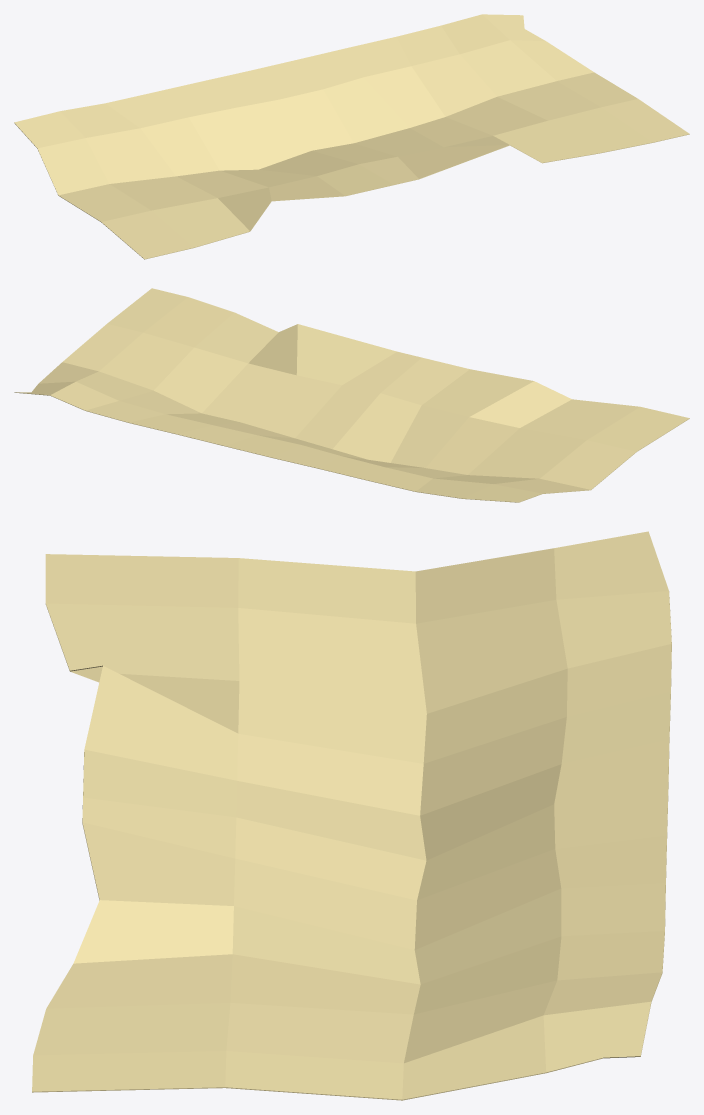
The model's file is Big Shelter rag.fbx.
3 renders of one model, top to bottom at view 1: azimuth 30°, elevation 25°; view 2: azimuth 150°, elevation 25°; view 3: azimuth 270°, elevation 25°, orthographic. The views are drawn at different scales.
Parts seen in each view (by area): view 1: Big Shelter rag; view 2: Big Shelter rag; view 3: Big Shelter rag.
Part boxes in pixels (x1,y1,x2,y2): Big Shelter rag: [14, 14, 689, 259]; Big Shelter rag: [14, 288, 689, 502]; Big Shelter rag: [32, 531, 671, 1100].
Bounding box in the file's own units: 709 × 64.28 × 363.
